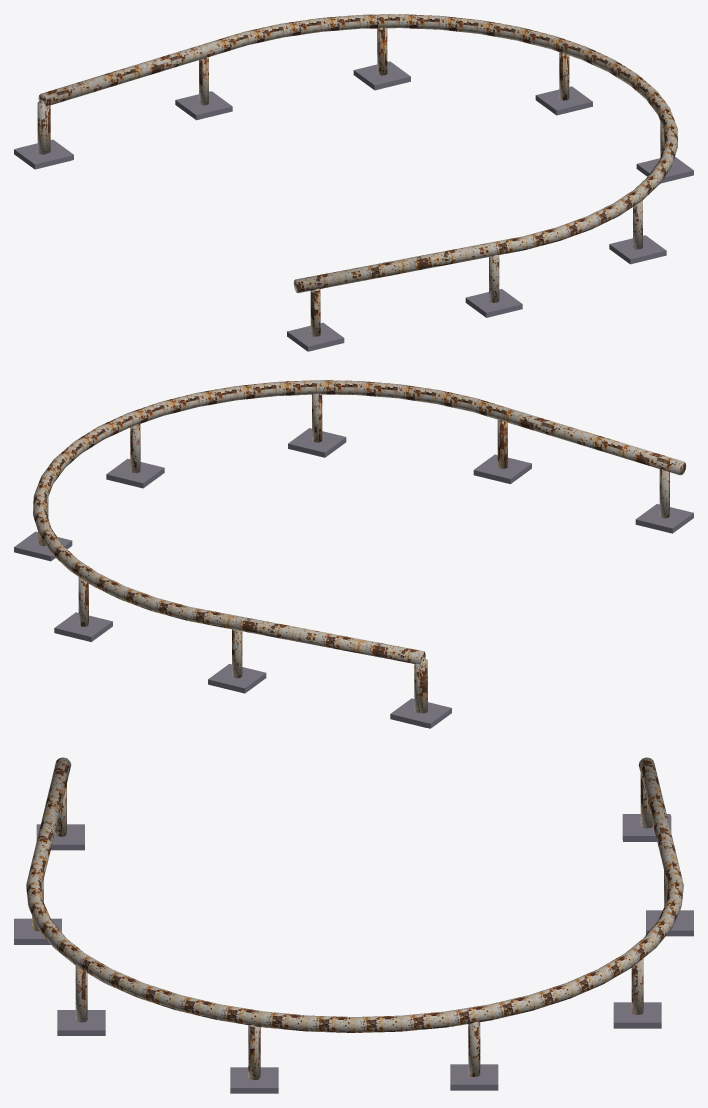
The model's file is CurveRail.glb.
3 views of the same model, one above another, from view 1: azimuth 30°, elevation 25°; view 2: azimuth 150°, elevation 25°; view 3: azimuth 270°, elevation 25° (orthographic). The views are drawn at different scales.
Visible parts, largest first — view 1: CurveRail_Bar, CurveRail_Bar_Feet; view 2: CurveRail_Bar, CurveRail_Bar_Feet; view 3: CurveRail_Bar, CurveRail_Bar_Feet.
Boxes of the visible parts, x1=… form: CurveRail_Bar: x1=37, y1=14, x2=677, y2=336; CurveRail_Bar_Feet: x1=14, y1=61, x2=693, y2=351; CurveRail_Bar: x1=33, y1=380, x2=686, y2=713; CurveRail_Bar_Feet: x1=14, y1=428, x2=693, y2=728; CurveRail_Bar: x1=26, y1=757, x2=683, y2=1079; CurveRail_Bar_Feet: x1=14, y1=814, x2=693, y2=1093.
Bounding box in the file's own units: 4.04 × 0.4998 × 4.24.
Materials: 2 (1 with a texture image).
